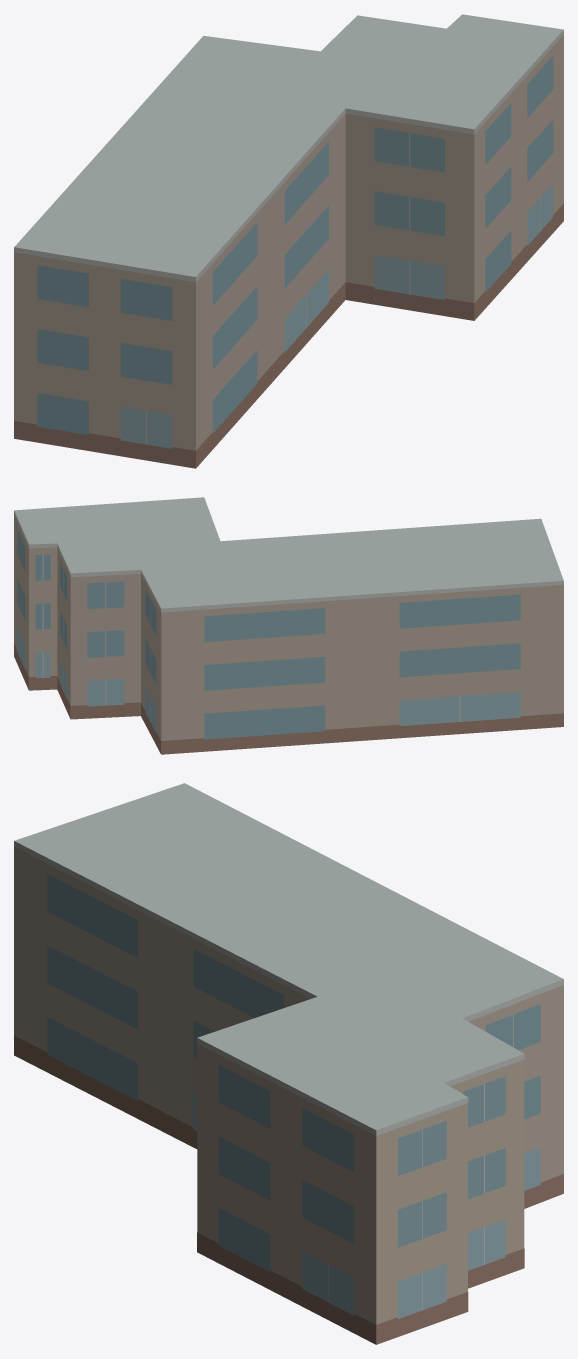
File: survey-upis-32924086.glb
3 views of the same model, one above another, from view 1: azimuth 30°, elevation 25°; view 2: azimuth 150°, elevation 25°; view 3: azimuth 270°, elevation 25° (orthographic). The views are drawn at different scales.
Visible parts, largest first — view 1: survey-upis-32924086.tmp; view 2: survey-upis-32924086.tmp; view 3: survey-upis-32924086.tmp.
Part boxes in pixels (<box>): survey-upis-32924086.tmp: <box>14,14,563,468</box>; survey-upis-32924086.tmp: <box>14,497,563,754</box>; survey-upis-32924086.tmp: <box>14,783,563,1344</box>.
Bounding box in the file's own units: 31.77 × 9.15 × 21.26.
